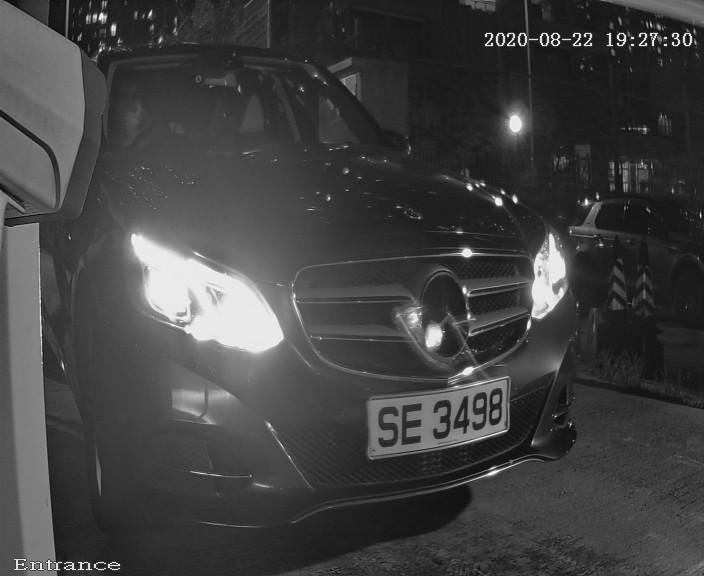Car: (4, 1, 635, 576)
License Plate: (346, 366, 543, 475)
